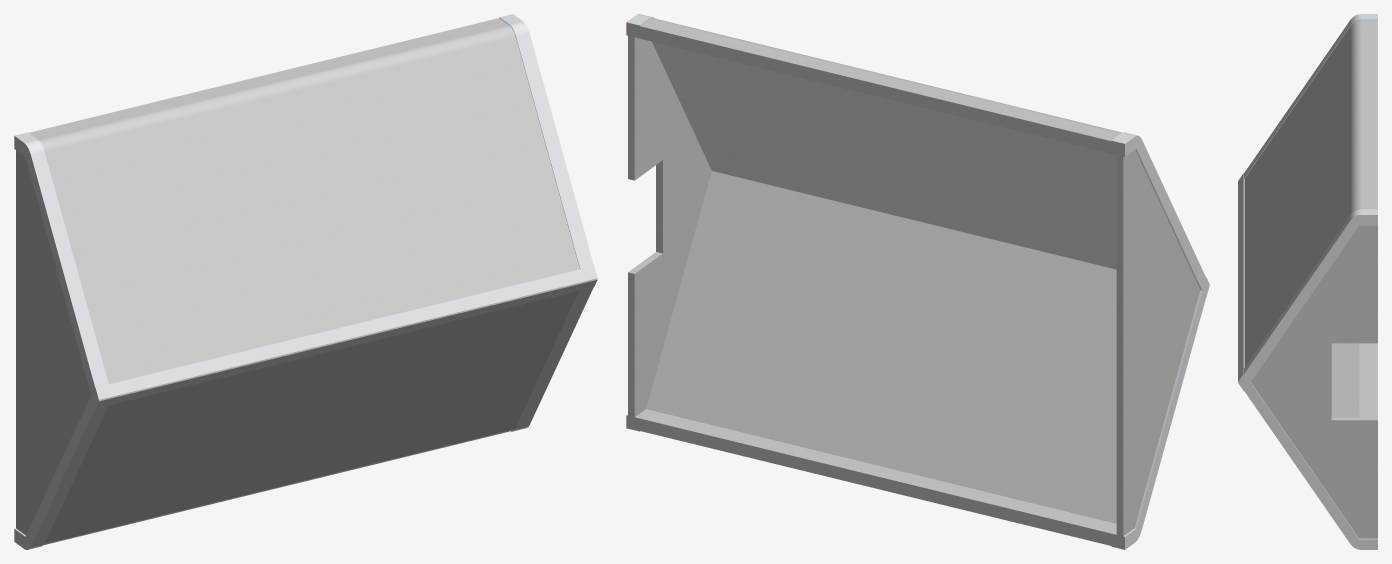
File: APT Roof v2.obj
3 views of the same model, side by side, from view 1: azimuth 30°, elevation 25°; view 2: azimuth 150°, elevation 25°; view 3: azimuth 270°, elevation 25° (orthographic). The views are drawn at different scales.
Parts seen in each view (by area): view 1: Solid1; view 2: Solid1; view 3: Solid1.
Boxes of the visible parts, x1,y1,x2,y2 form: Solid1: (14,14,597,549); Solid1: (626,14,1209,549); Solid1: (1238,14,1377,549).
Bounding box in the file's own units: 700 × 544 × 206.
